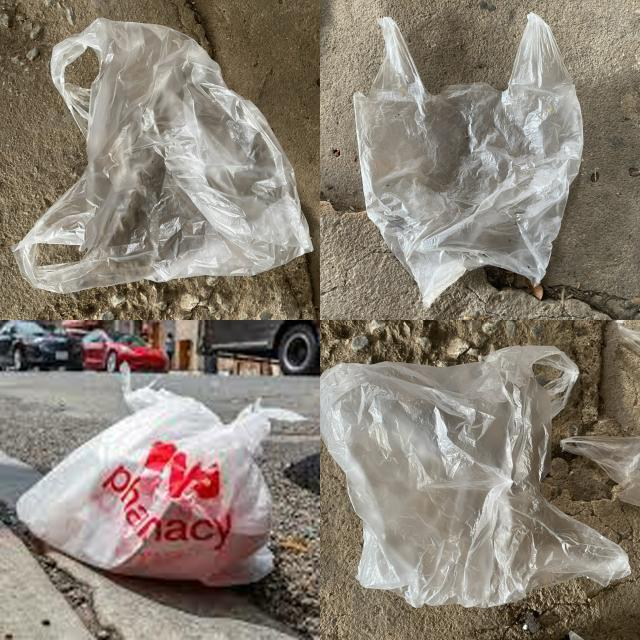Single-layer Plastic: (12, 18, 312, 294), (321, 346, 630, 608), (354, 14, 582, 306), (16, 388, 272, 586)
